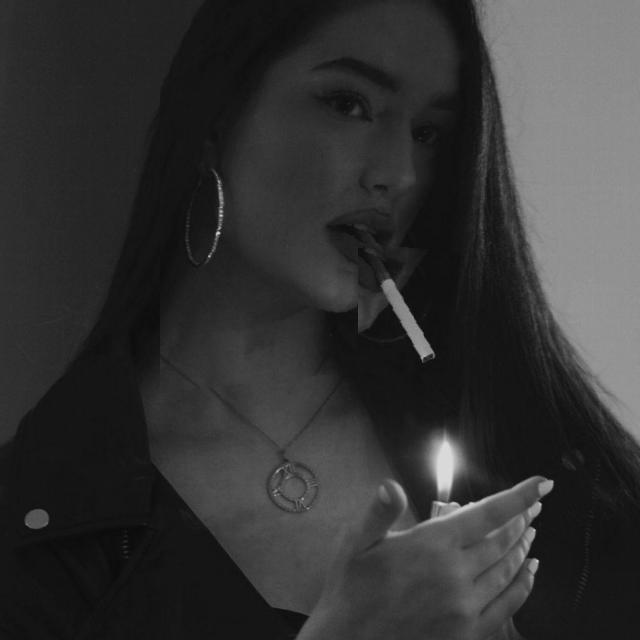cigarette: (358, 243, 461, 373)
